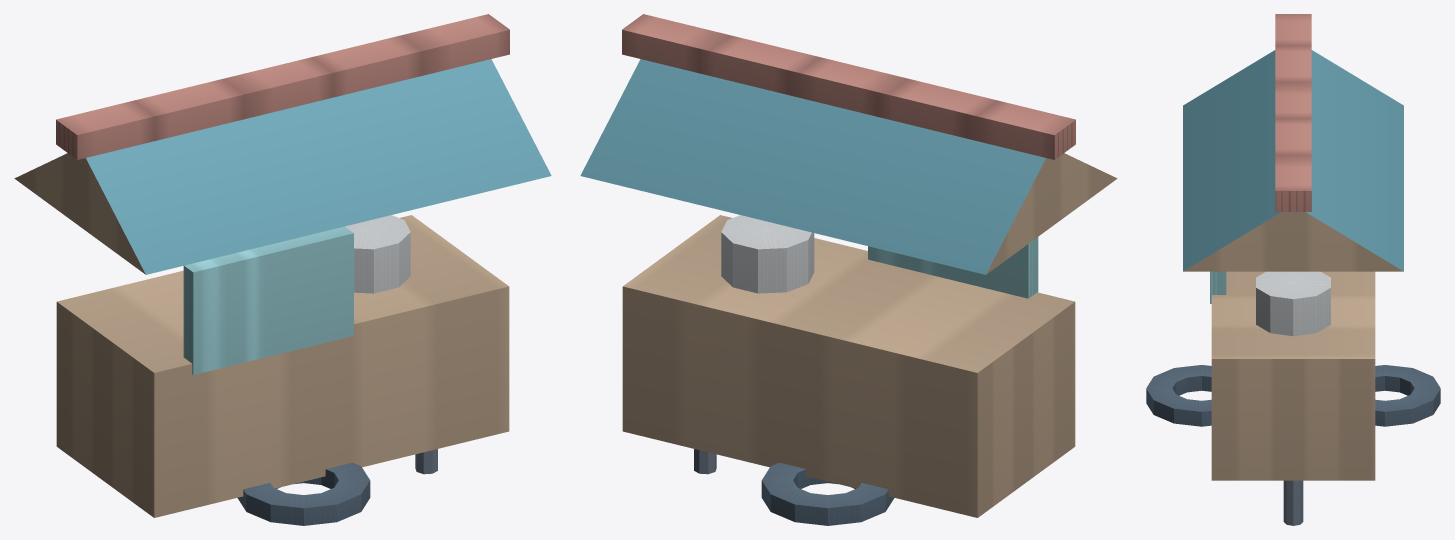
File: food_cart.glb
3 renders of one model, left to right at view 1: azimuth 30°, elevation 25°; view 2: azimuth 150°, elevation 25°; view 3: azimuth 270°, elevation 25°, orthographic. The views are drawn at different scales.
Parts seen in each view (by area): view 1: food_cart; view 2: food_cart; view 3: food_cart.
Boxes of the visible parts, x1,y1,x2,y2 form: food_cart: (14, 14, 551, 525); food_cart: (580, 14, 1117, 525); food_cart: (1146, 14, 1440, 525).
Size of the model in its own units: 2.56 by 2.43 by 1.8.
1 material, 1 textured.
